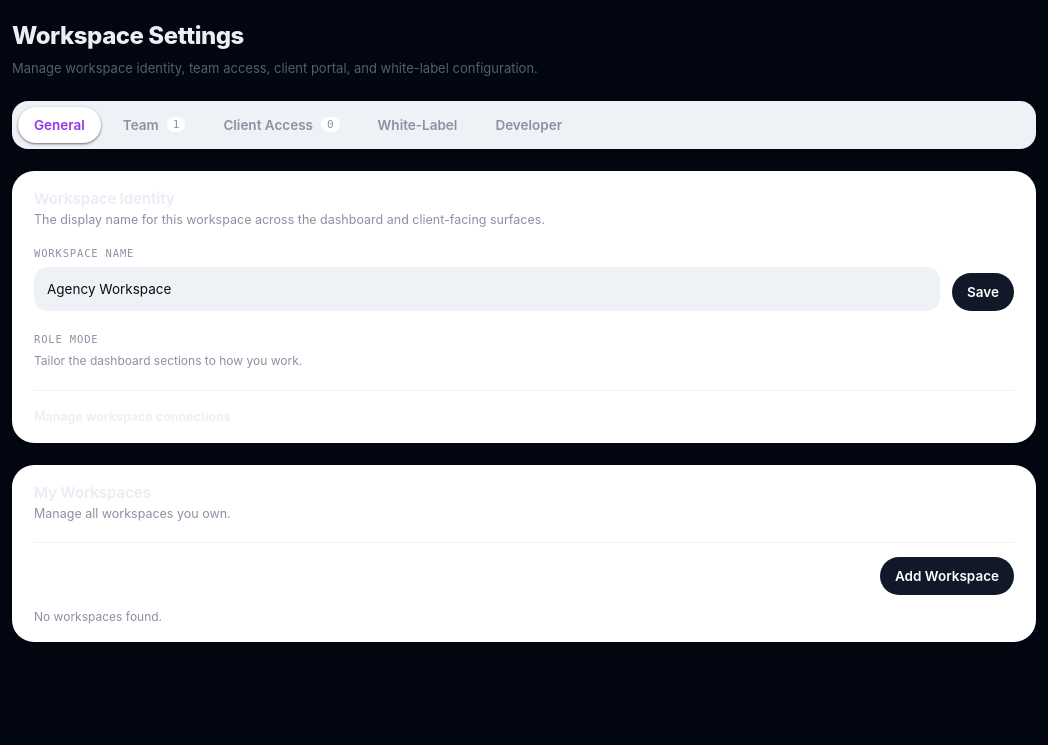
Test: WorkspaceSettingsPage › offers the approved White-Label tab, wired, on an entitled plan
The image size is (1048, 745).
Click the tab "White-Label".
click(418, 124)  # box x1=362 y1=106 x2=473 y2=142
(page scrolled)
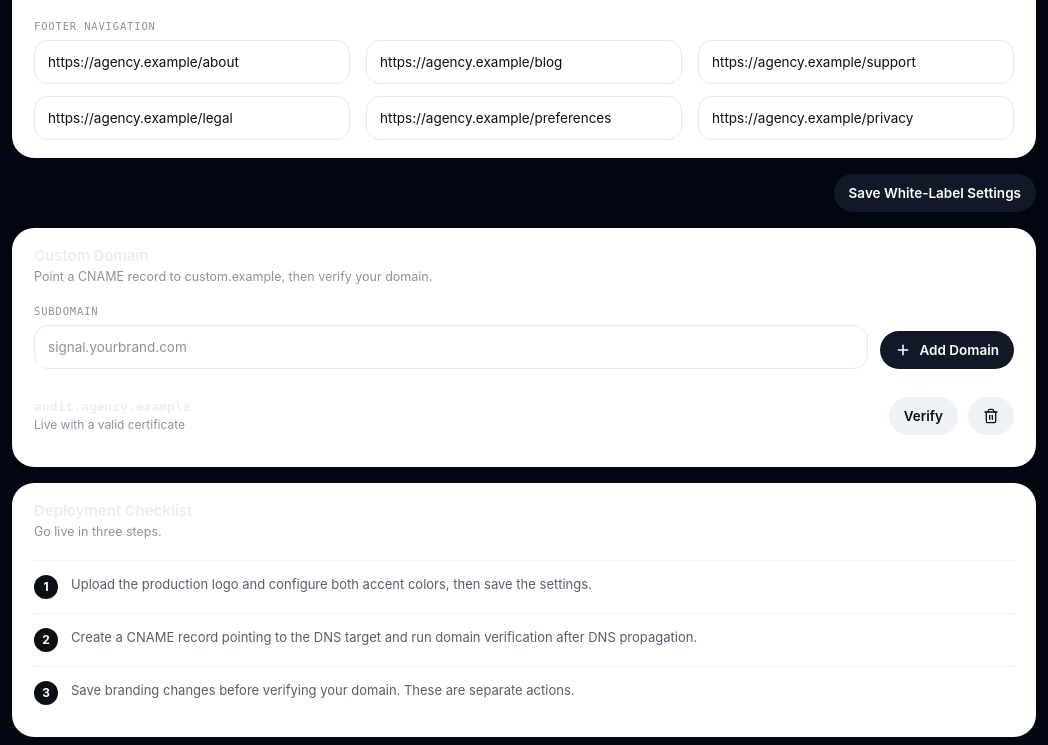
Expected: the button "Save White-Label Settings" is shown, x1=834 y1=174 x2=1036 y2=212
Expected: the text "audit.agency.example" is shown 2 times
Expected: the text "Live with a valid certificate" is shown, x1=34 y1=416 x2=190 y2=433
